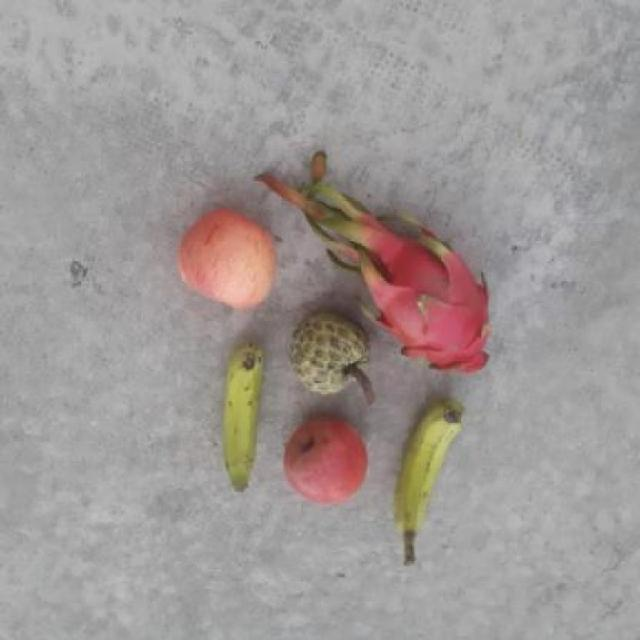apple: (176, 210, 278, 313), (280, 414, 372, 508)
banana: (213, 338, 273, 497), (397, 399, 465, 539)
dragon fruit: (375, 229, 494, 376)
sugar apple: (287, 303, 371, 394)
